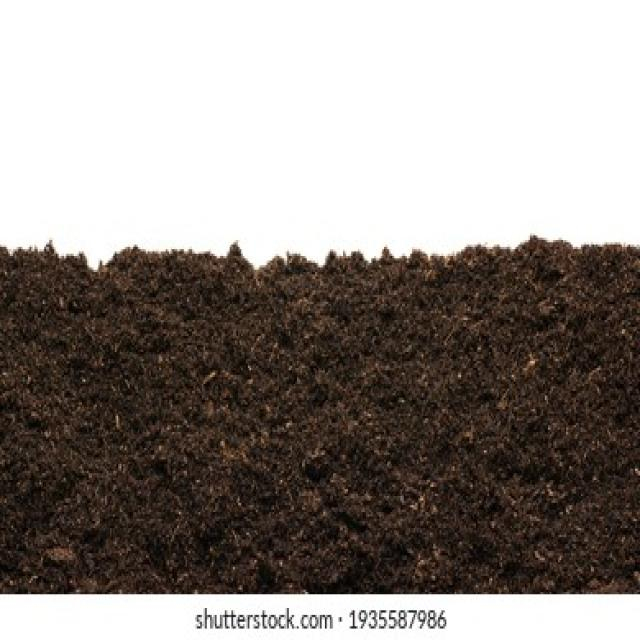Black Soil: (21, 288, 618, 550)
